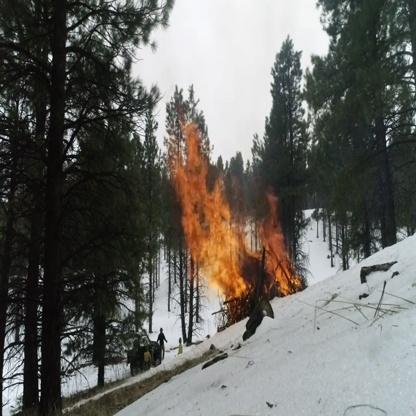Fire: (163, 104, 307, 319)
